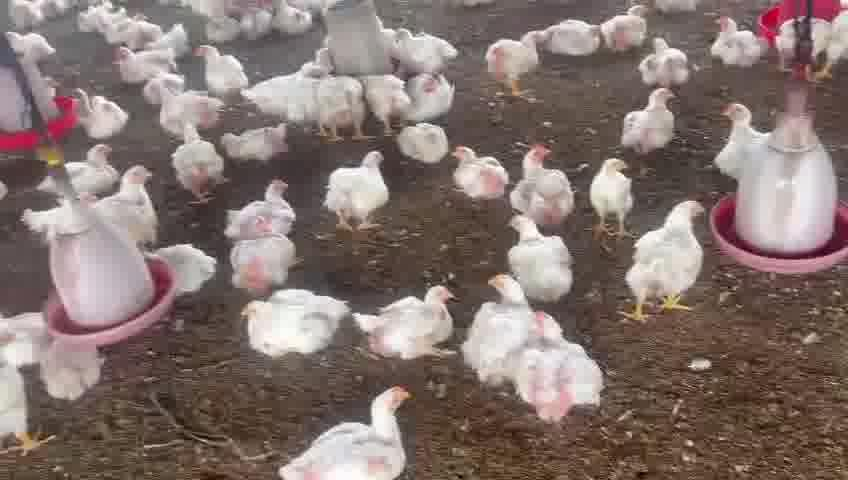AbNormal: (221, 128, 291, 162)
Normal: (259, 385, 416, 480), (621, 198, 715, 328), (508, 315, 594, 434), (346, 278, 460, 366), (470, 275, 535, 410), (491, 128, 575, 232), (319, 145, 398, 245), (236, 286, 343, 358), (498, 211, 574, 311), (621, 75, 683, 169), (569, 145, 645, 221), (98, 162, 162, 240), (706, 88, 759, 181), (218, 178, 300, 234), (643, 34, 706, 106), (313, 71, 366, 148), (485, 30, 545, 96), (225, 221, 294, 278), (448, 148, 519, 201), (176, 124, 226, 199), (155, 79, 229, 125), (601, 5, 658, 64), (359, 69, 405, 135), (59, 142, 121, 188), (198, 41, 244, 103), (68, 86, 126, 135), (400, 118, 458, 166), (715, 6, 760, 66)
